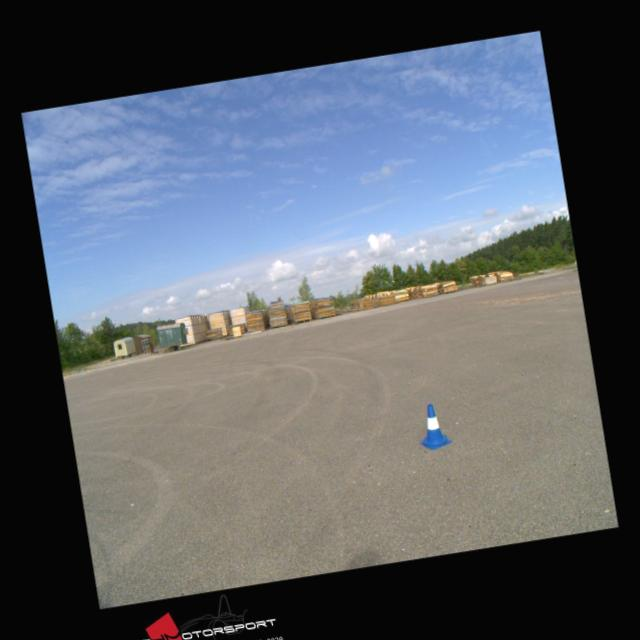blue_cone: (413, 402, 452, 451)
